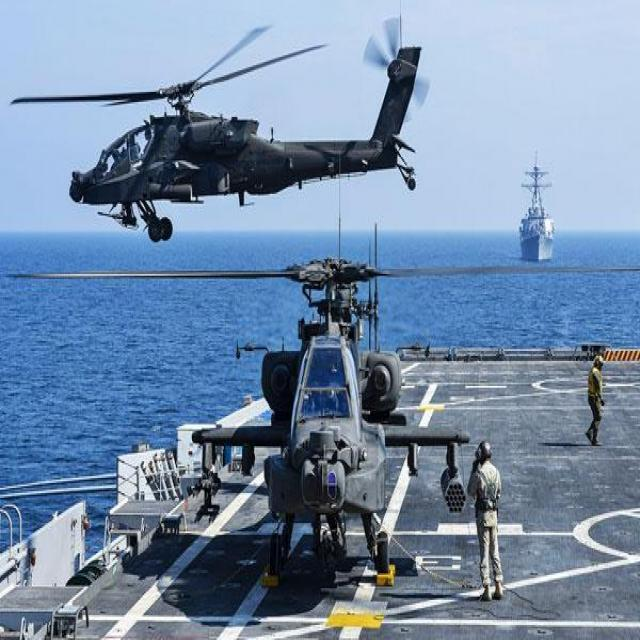MIL_HELO: (8, 261, 640, 573), (6, 11, 429, 245)
